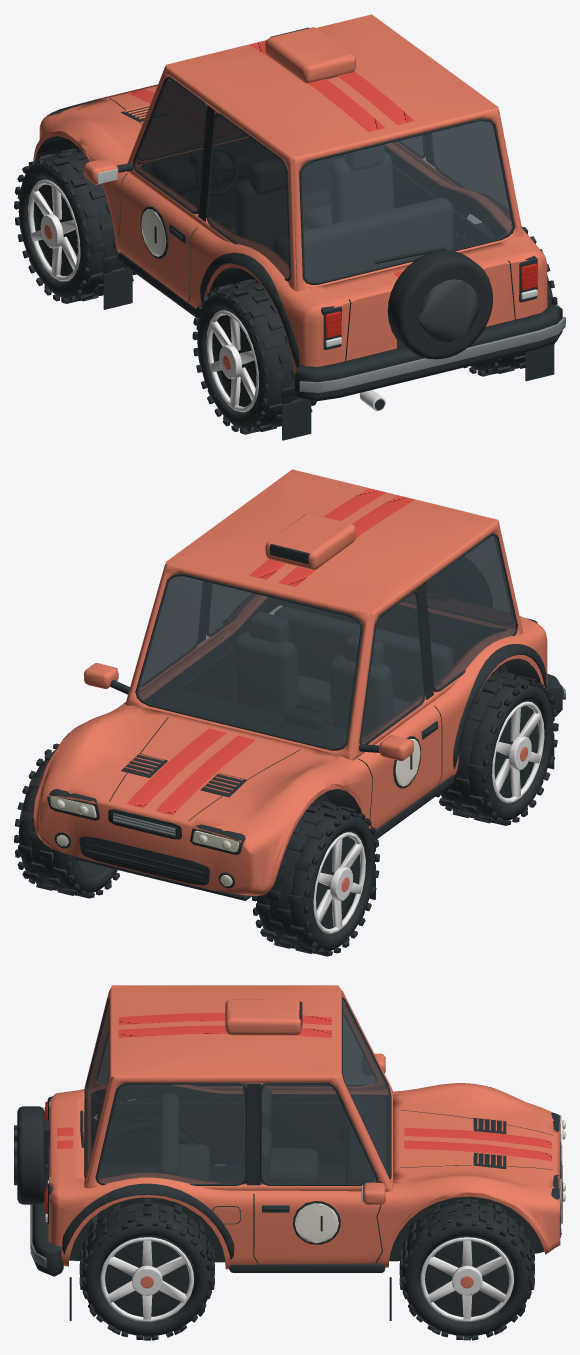
File: sabaku_lod2.fbx
The picture shows the model from 3 angles, top to bottom: view 1: azimuth 30°, elevation 25°; view 2: azimuth 150°, elevation 25°; view 3: azimuth 270°, elevation 25°; orthographic projection. The views are drawn at different scales.
Visible parts, largest first — view 1: Body, Wheel_RL_Mesh, Wheel_FL_Mesh, Wheel_RR_Mesh; view 2: Body, Wheel_FL_Mesh, Wheel_RL_Mesh, Wheel_FR_Mesh; view 3: Body, Wheel_FR_Mesh, Wheel_RR_Mesh, Wheel_RL_Mesh.
Boxes of the visible parts, bbox=[...] form: Body: bbox=[33, 14, 565, 440]; Wheel_RL_Mesh: bbox=[192, 279, 316, 434]; Wheel_FL_Mesh: bbox=[14, 148, 136, 303]; Wheel_RR_Mesh: bbox=[453, 223, 557, 376]; Body: bbox=[33, 469, 565, 900]; Wheel_FL_Mesh: bbox=[252, 801, 379, 956]; Wheel_RL_Mesh: bbox=[436, 670, 558, 825]; Wheel_FR_Mesh: bbox=[14, 743, 119, 898]; Body: bbox=[14, 985, 565, 1320]; Wheel_FR_Mesh: bbox=[399, 1198, 534, 1340]; Wheel_RR_Mesh: bbox=[79, 1198, 214, 1340]; Wheel_RL_Mesh: bbox=[91, 1098, 211, 1165].
Bounding box in the file's own units: 243 × 218 × 404.
